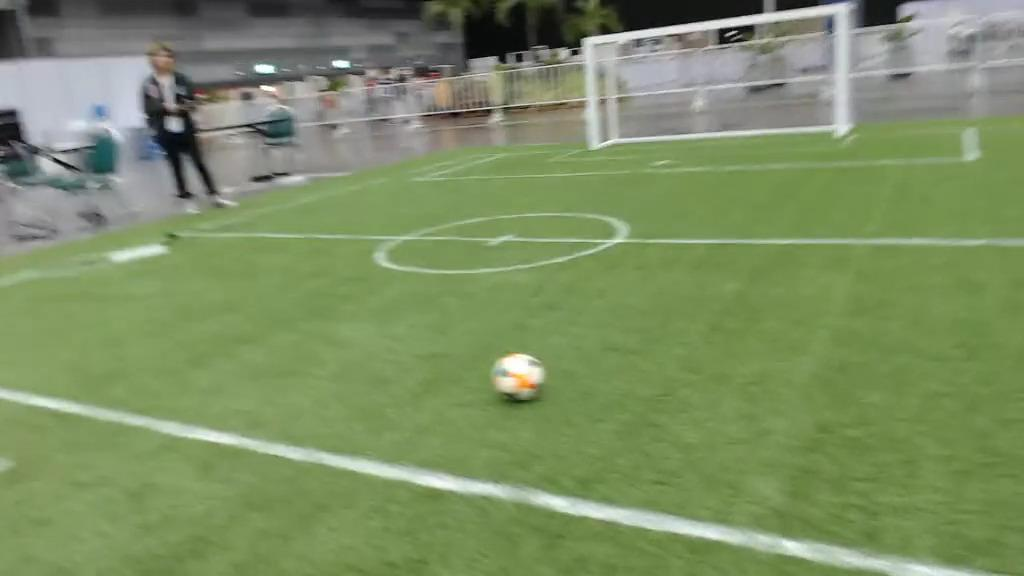ball: (494, 353, 545, 405)
